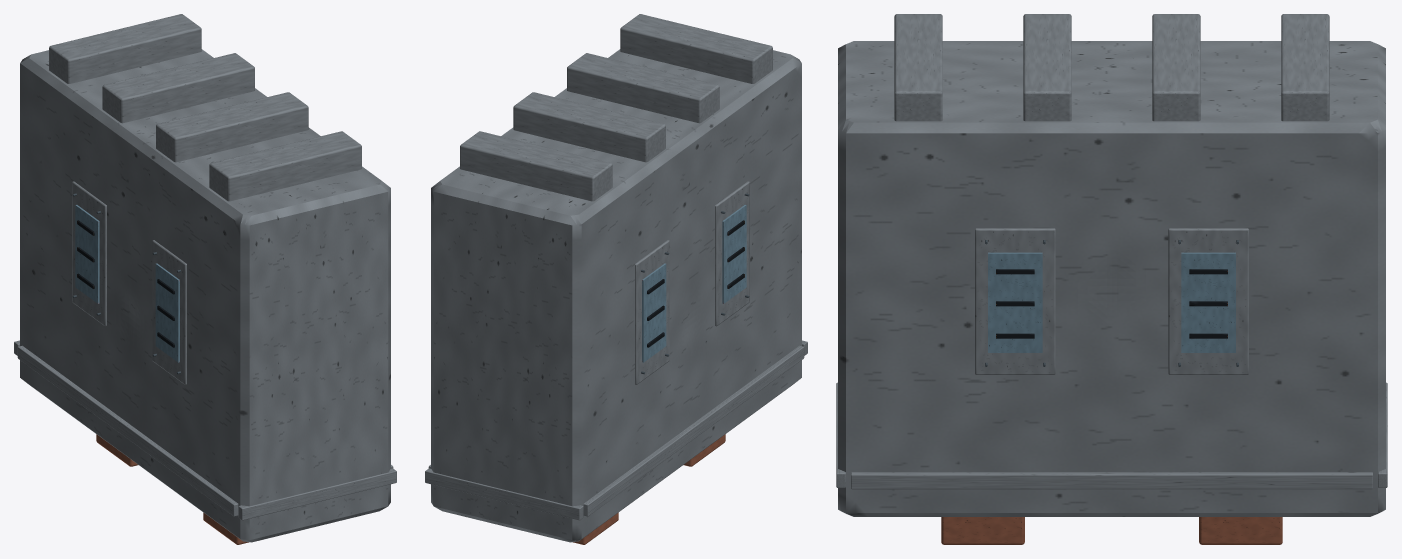
The picture shows the model from 3 angles, left to right: view 1: azimuth 30°, elevation 25°; view 2: azimuth 150°, elevation 25°; view 3: azimuth 270°, elevation 25°; orthographic projection. The views are drawn at different scales.
Parts seen in each view (by area): view 1: PrimaryHullAndArmour, TrimAndFasteners, ServiceAssemblies, RecessedMachinery; view 2: PrimaryHullAndArmour, TrimAndFasteners, ServiceAssemblies, RecessedMachinery; view 3: PrimaryHullAndArmour, ServiceAssemblies, RecessedMachinery, TrimAndFasteners.
Part boxes in pixels (bbox=[...]): PrimaryHullAndArmour: bbox=[20, 14, 390, 544]; TrimAndFasteners: bbox=[14, 193, 396, 520]; ServiceAssemblies: bbox=[72, 181, 186, 384]; RecessedMachinery: bbox=[75, 205, 179, 362]; PrimaryHullAndArmour: bbox=[431, 14, 801, 544]; TrimAndFasteners: bbox=[425, 193, 807, 520]; ServiceAssemblies: bbox=[635, 181, 749, 384]; RecessedMachinery: bbox=[642, 205, 746, 362]; PrimaryHullAndArmour: bbox=[838, 14, 1385, 544]; ServiceAssemblies: bbox=[975, 228, 1248, 374]; RecessedMachinery: bbox=[988, 252, 1235, 352]; TrimAndFasteners: bbox=[836, 240, 1387, 489].
Bounding box in the file's own units: 0.694 × 1.61 × 1.71.
Materials: 1 (1 with a texture image).
